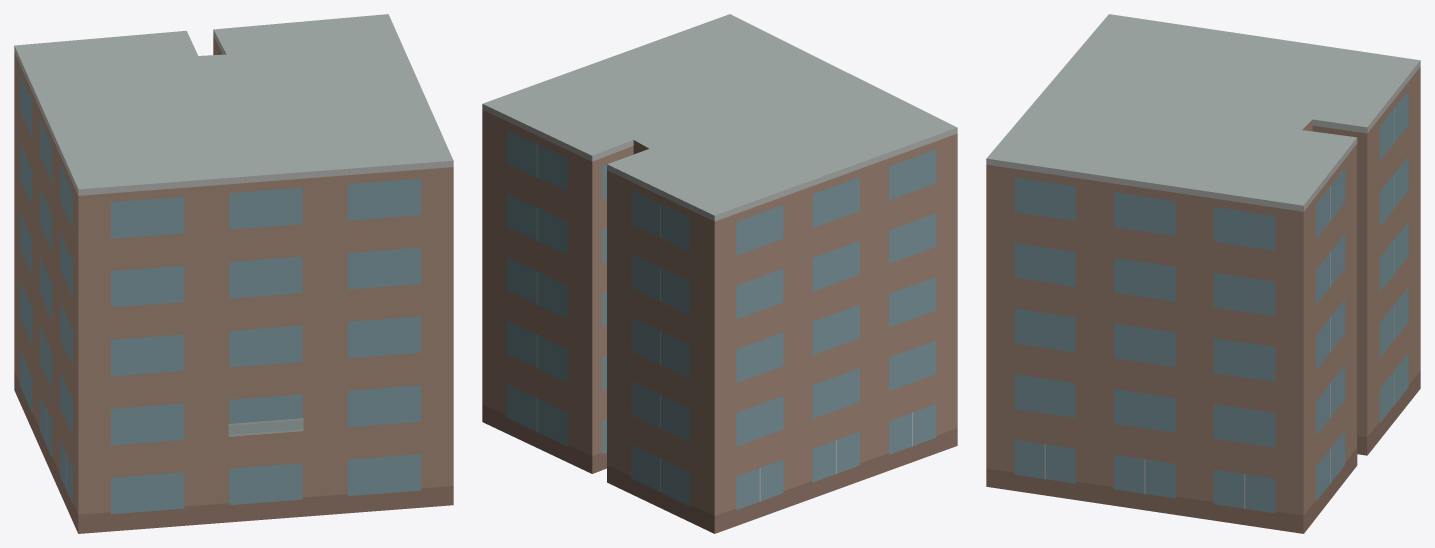
File: survey-upis-32972745.glb
3 views of the same model, side by side, from view 1: azimuth 30°, elevation 25°; view 2: azimuth 150°, elevation 25°; view 3: azimuth 270°, elevation 25° (orthographic). The views are drawn at different scales.
Parts seen in each view (by area): view 1: survey-upis-32972745.tmp; view 2: survey-upis-32972745.tmp; view 3: survey-upis-32972745.tmp.
Boxes of the visible parts, box(x1,y1,x2,y2) form: survey-upis-32972745.tmp: box(14, 14, 453, 533); survey-upis-32972745.tmp: box(482, 14, 957, 533); survey-upis-32972745.tmp: box(986, 14, 1420, 533).
Size of the model in its own units: 16.55 by 13.2 by 15.84.
